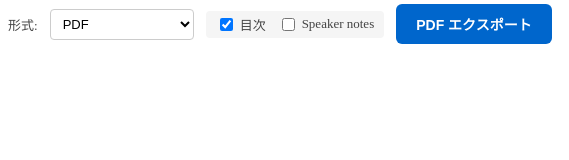
Export - format selector (A5) › hides PDF options when pptx is selected
Select "PPTX" in the dropdown with test id "export-format-select" at (122, 24), box [50, 8, 194, 40]
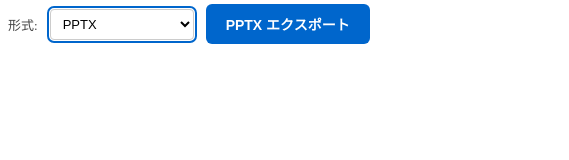
Expected: the element with test id "export-pdf-options" is gone
